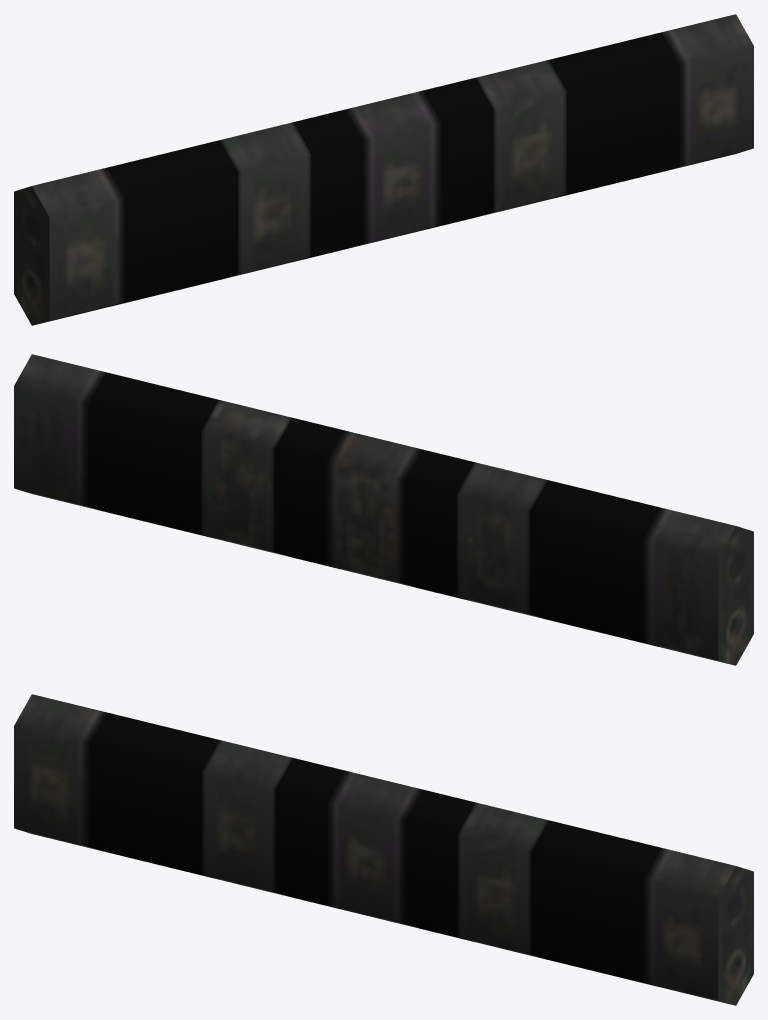
The picture shows the model from 3 angles, top to bottom: view 1: azimuth 30°, elevation 25°; view 2: azimuth 150°, elevation 25°; view 3: azimuth 330°, elevation 25°; orthographic projection.
Visible parts, largest first — view 1: set_0_group_0; view 2: set_0_group_0; view 3: set_0_group_0.
Boxes of the visible parts, bbox=[...] form: set_0_group_0: bbox=[14, 14, 753, 325]; set_0_group_0: bbox=[14, 354, 753, 665]; set_0_group_0: bbox=[14, 694, 753, 1005].
Bounding box in the file's own units: 0.5017 × 0.0952 × 0.0442.
1 material, 1 textured.
